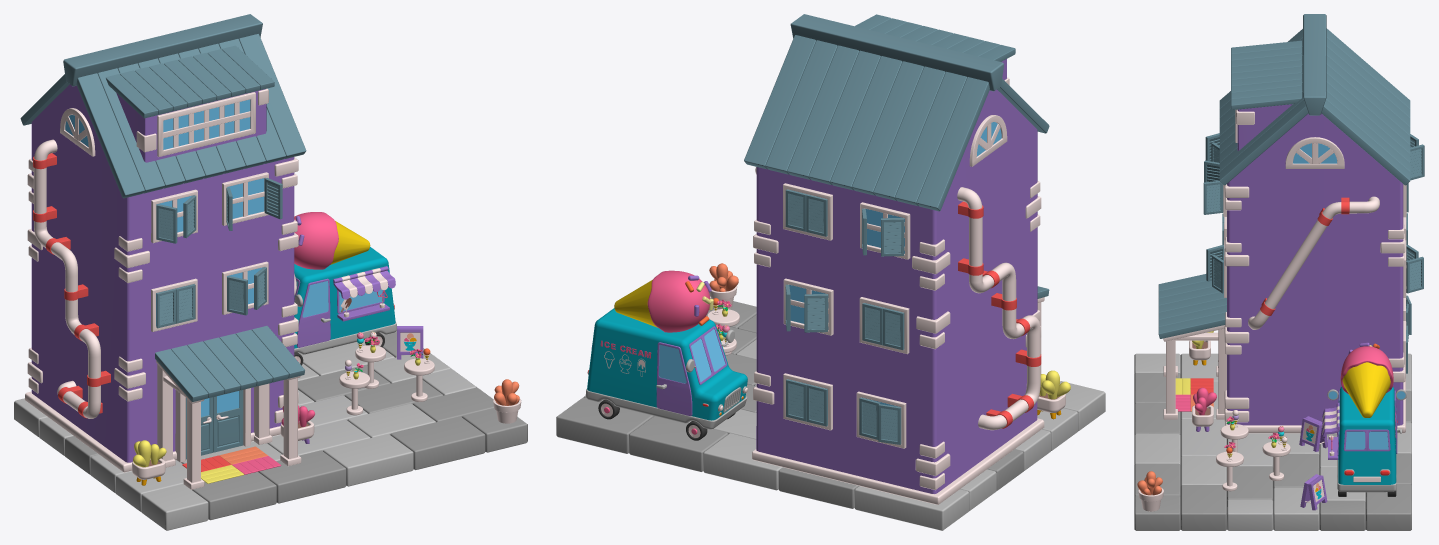
Rendered from City_Island_19.glb.
3 renders of one model, left to right at view 1: azimuth 30°, elevation 25°; view 2: azimuth 150°, elevation 25°; view 3: azimuth 270°, elevation 25°, orthographic. The views are drawn at different scales.
Parts seen in each view (by area): view 1: City_19_House_1, City_19_Base_1, City_19_Ice_Cream_Car_1, City_19_Pipe_2, City_19_Carpet_1, City_19_Plant_1, City_19_Plant_2, City_19_Ice_Cream_Sign_1, City_19_Table_3, City_19_Table_1, City_19_Table_2, City_19_Plant_3; view 2: City_19_House_1, City_19_Base_1, City_19_Ice_Cream_Car_1, City_19_Pipe_2, City_19_Plant_1, City_19_Plant_2; view 3: City_19_House_1, City_19_Base_1, City_19_Ice_Cream_Car_1, City_19_Pipe_1, City_19_Carpet_1, City_19_Plant_3, City_19_Plant_2, City_19_Ice_Cream_Sign_2, City_19_Ice_Cream_Sign_1, City_19_Table_3, City_19_Table_2, City_19_Plant_1 (+1 smaller).
Part boxes in pixels (left/top/right/bottom): City_19_House_1: left=20, top=14, right=306, bottom=489; City_19_Base_1: left=14, top=330, right=527, bottom=530; City_19_Ice_Cream_Car_1: left=294, top=212, right=396, bottom=365; City_19_Pipe_2: left=33, top=139, right=110, bottom=418; City_19_Carpet_1: left=182, top=446, right=281, bottom=483; City_19_Plant_1: left=132, top=440, right=166, bottom=485; City_19_Plant_2: left=493, top=379, right=521, bottom=423; City_19_Ice_Cream_Sign_1: left=397, top=326, right=423, bottom=359; City_19_Table_3: left=404, top=358, right=434, bottom=402; City_19_Table_1: left=339, top=371, right=370, bottom=415; City_19_Table_2: left=355, top=345, right=385, bottom=388; City_19_Plant_3: left=280, top=405, right=314, bottom=443; City_19_House_1: left=744, top=14, right=1049, bottom=504; City_19_Base_1: left=556, top=301, right=1105, bottom=530; City_19_Ice_Cream_Car_1: left=585, top=270, right=747, bottom=440; City_19_Pipe_2: left=957, top=187, right=1041, bottom=430; City_19_Plant_1: left=1037, top=370, right=1070, bottom=419; City_19_Plant_2: left=709, top=263, right=738, bottom=309; City_19_House_1: left=1158, top=14, right=1424, bottom=433; City_19_Base_1: left=1134, top=353, right=1411, bottom=530; City_19_Ice_Cream_Car_1: left=1322, top=342, right=1406, bottom=496; City_19_Pipe_1: left=1248, top=196, right=1379, bottom=329; City_19_Carpet_1: left=1175, top=378, right=1213, bottom=411; City_19_Plant_3: left=1192, top=387, right=1216, bottom=431; City_19_Plant_2: left=1137, top=471, right=1163, bottom=511; City_19_Ice_Cream_Sign_2: left=1299, top=416, right=1327, bottom=451; City_19_Ice_Cream_Sign_1: left=1300, top=474, right=1327, bottom=510; City_19_Table_3: left=1216, top=451, right=1243, bottom=491; City_19_Table_2: left=1262, top=441, right=1290, bottom=480; City_19_Plant_1: left=1189, top=331, right=1213, bottom=365.
Size of the model in its own units: 12.23 by 12.45 by 9.13.
Materials: 27 (27 with a texture image).
